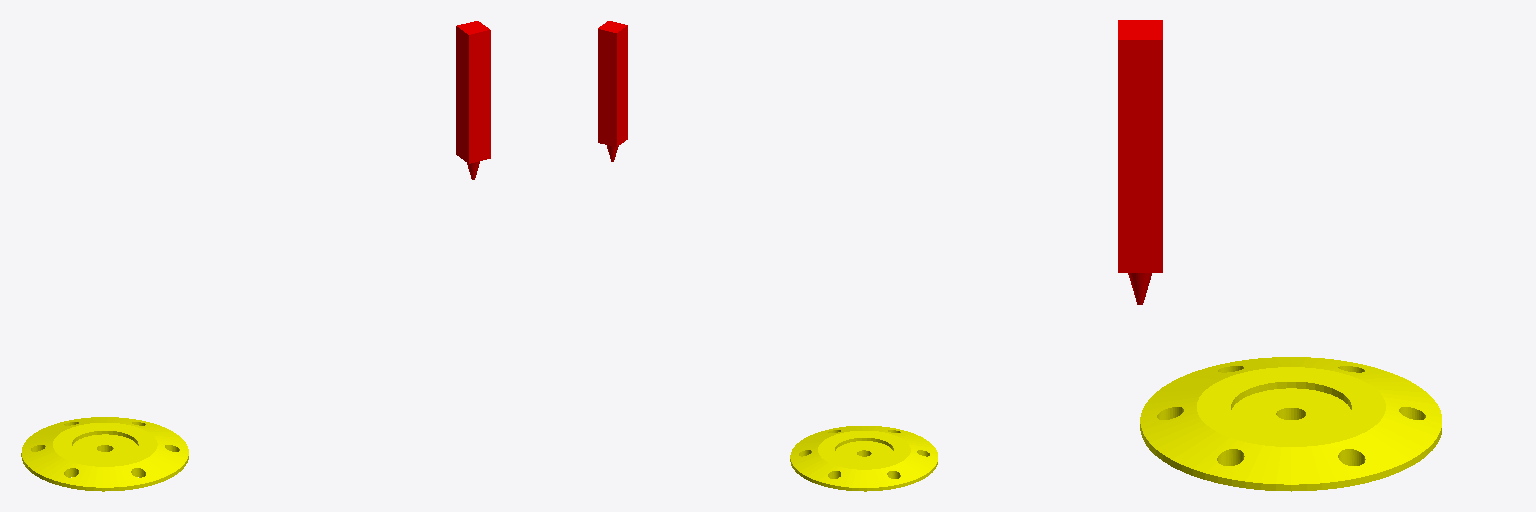
URDF robot description (trrp_robot):
<robot name="trrp_robot">
  <link name="base_link">
    <visual>
      <geometry>
        <mesh filename="package://urdf_robots/mesh/base_link_2p.STL"/>
      </geometry>
      <origin rpy="0 0 0" xyz="-0.1 -0.1 0"/>
      <material name="generic">
        <color rgba="1 1 0 1"/>
      </material>
    </visual>
  </link>

  <joint name="joint1" type="revolute">
    <parent link="base_link"/>
    <child link="link1"/>
    <origin xyz="0 0 0"/>
    <axis xyz="0 0 1"/>
    <limit effort="300" velocity="0.1" lower="-3.14" upper="3.14"/>
    <dynamics damping="50" friction="1"/>
  </joint>

  <link name="link1">
    <visual>
      <geometry>
        <mesh filename="package://urdf_robots/mesh/link1_2p.STL"/>
      </geometry>
      <origin rpy="0 0 1.274090353" xyz="0.115 -0.08 0"/>
      <material name="generic_2">
        <color rgba="0 0 1 1"/>
      </material>
    </visual>
  </link>

  <joint name="joint2" type="revolute">
    <parent link="link1"/>
    <child link="link2"/>
    <origin xyz="0.1 -0.05 0.3"/>
    <axis xyz="0 -1 0"/>
    <limit effort="300" velocity="0.1" lower="-0.75" upper="0.75"/>
    <dynamics damping="50" friction="1"/>
  </joint>

  <link name="link2">
    <visual>
      <geometry>
        <mesh filename="package://urdf_robots/mesh/link2_2p.STL"/>
      </geometry>
      <origin rpy="0 0 3.14159265" xyz="0.215 0.025 -0.03"/>
      <material name="generic_3">
        <color rgba="0 1 0 1"/>
      </material>
    </visual>
  </link>

  <joint name="joint3" type="revolute">
    <parent link="link2"/>
    <child link="link3"/>
    <origin xyz="0.2 -0.05 0"/>
    <axis xyz="0 -1 0"/>
    <limit effort="300" velocity="0.1" lower="-0.15" upper="0.5"/>
    <dynamics damping="50" friction="1"/>
  </joint>
  <link name="link3">
    <visual>
      <geometry>
        <mesh filename="package://urdf_robots/mesh/link3_2p.STL"/>
      </geometry>
      <origin rpy="0 0 0" xyz="-0.0225 -0.025 -0.0225"/>
      <material name="generic_4">
        <color rgba="0 1 1 1"/>
      </material>
    </visual>
  </link>

  <joint name="joint4" type="prismatic">
    <parent link="link3"/>
    <child link="link4"/>
    <origin xyz="0.15 0 0"/>
    <axis xyz="0 0 -1"/>
    <limit effort="300" velocity="0.1" lower="0" upper="0.2"/>
    <dynamics damping="50" friction="1"/>
  </joint>
  <link name="link4">
    <visual>
      <geometry>
        <mesh filename="package://urdf_robots/mesh/link4_2p.STL"/>
      </geometry>
      <origin rpy="0 3.14159265 0" xyz="0.015 -0.015 0.2"/>
      <material name="generic_5">
        <color rgba="1 0 0 1"/>
      </material>
    </visual>
  </link>

</robot>

--- What the picture shows (computed from the rendered views, not written in the file) ---
The picture shows the robot from 3 angles, left to right: view 1: azimuth 30°, elevation 25°; view 2: azimuth 150°, elevation 25°; view 3: azimuth 270°, elevation 25°; orthographic projection.
Model trrp_robot with 5 links and 4 joints (3 revolute, 1 prismatic), rooted at base_link, posed all joints at 0.
Visible links, largest first — view 1: base_link, link4; view 2: base_link, link4; view 3: base_link, link4.
Boxes of the visible links, bbox=[...] form: base_link: bbox=[21, 417, 188, 491]; link4: bbox=[456, 21, 490, 179]; base_link: bbox=[790, 426, 937, 491]; link4: bbox=[598, 21, 627, 161]; base_link: bbox=[1140, 357, 1441, 491]; link4: bbox=[1118, 20, 1162, 304].
Bounding box of the posed robot: 0.565 × 0.2149 × 0.5 m (x, y, z).
Meshes: 5 distinct files referenced, 2 mesh visuals loaded (2 binary STL); not drawn: 3 (reference not matched to a file when rendering).